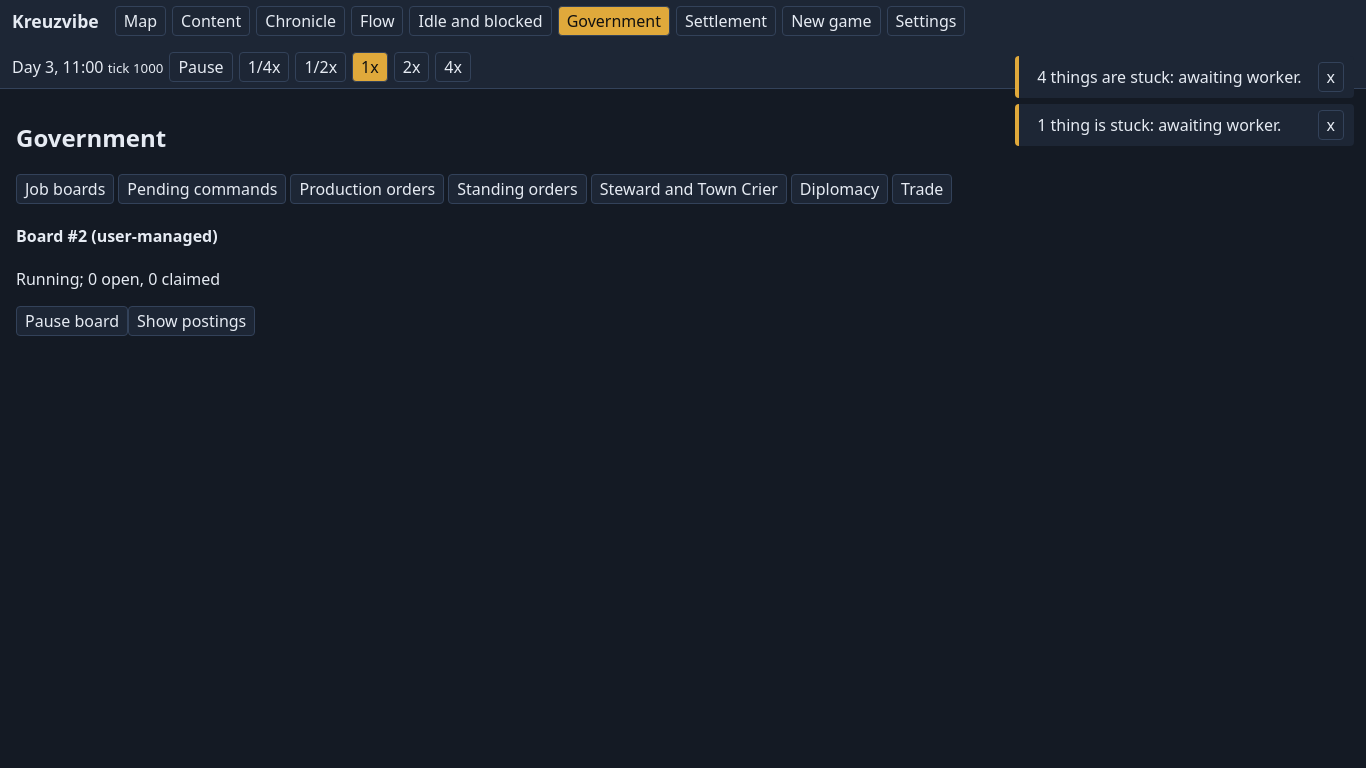
TradeTab › shows field errors for an incomplete trade form
The image size is (1366, 768).
Click the tab "Trade" at coordinates (922, 189), box [892,174,952,204]
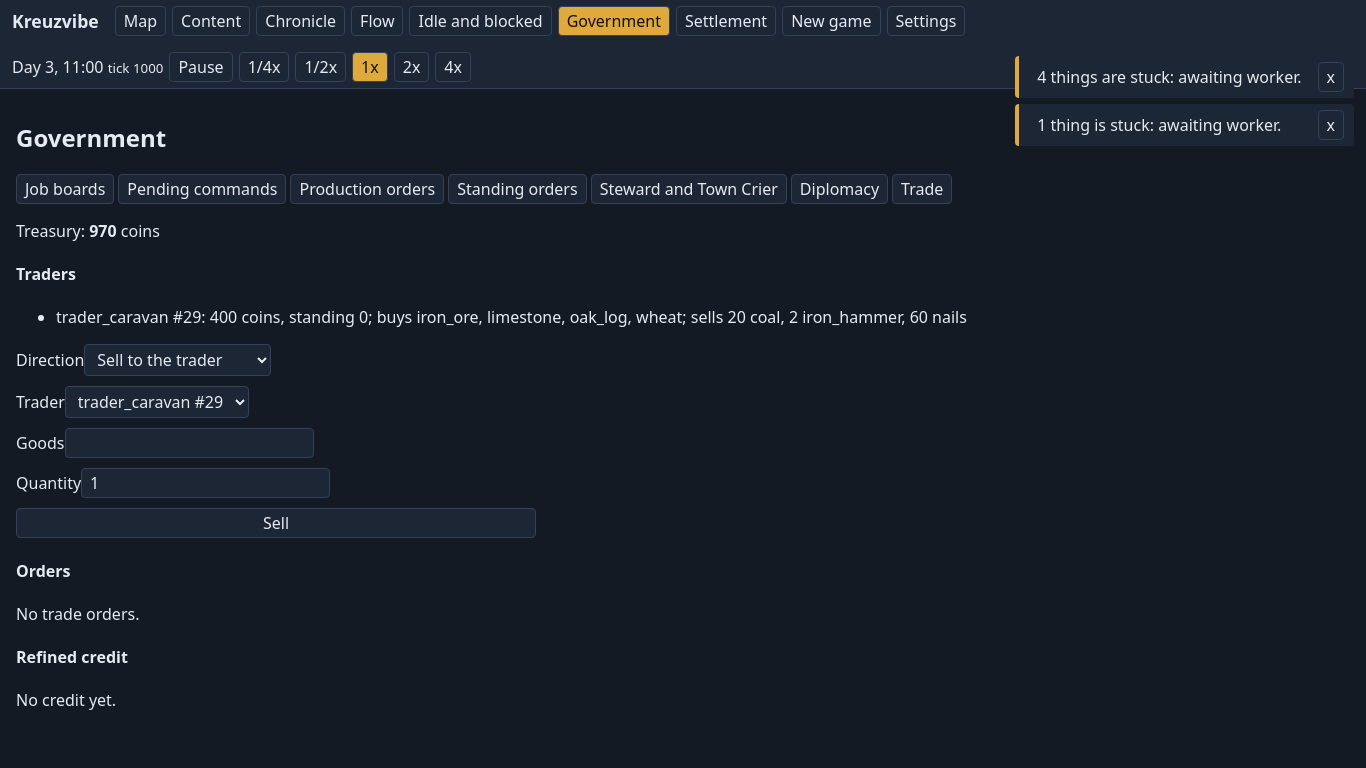
Replace the text in the field labelled "Quantity" with "0" at coordinates (206, 483), box [81,468,330,498]
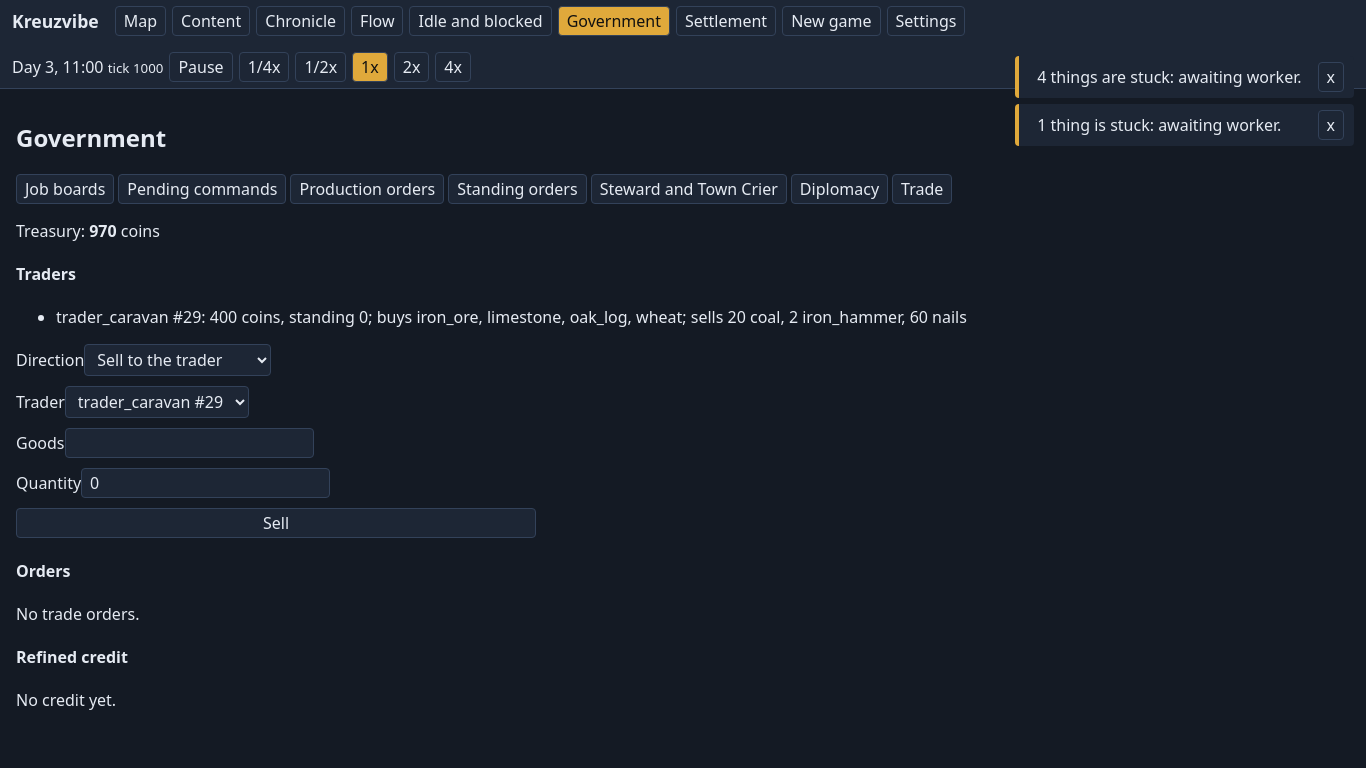
Click the button "Sell" at coordinates (276, 523), box [16,508,536,538]
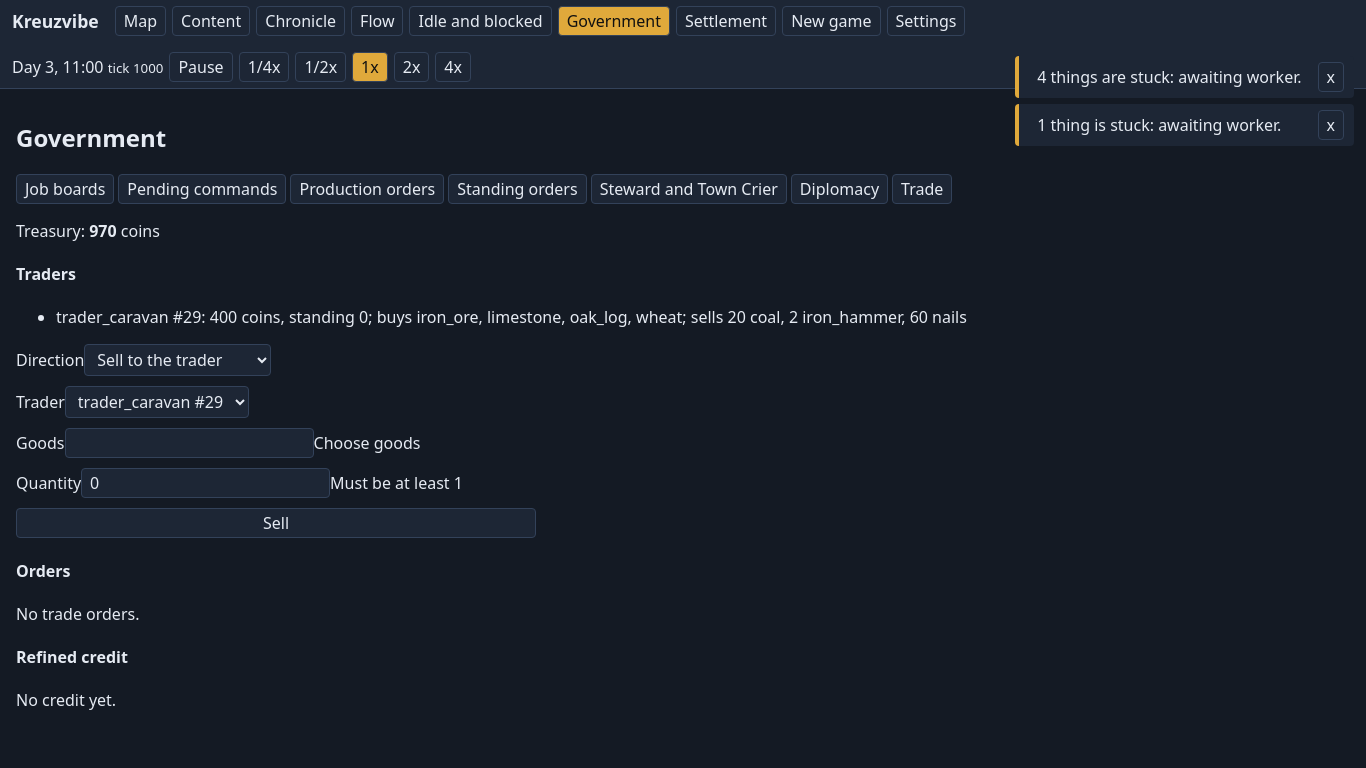
Check: the text "Must be at least 1" is shown, box [330,472,463,494]
Check: the text "Choose goods" is shown, box [314,432,420,454]
